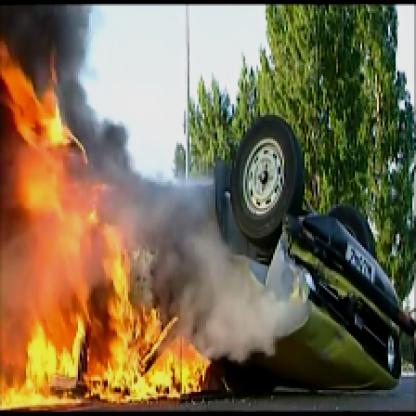Fire: (2, 50, 223, 412)
